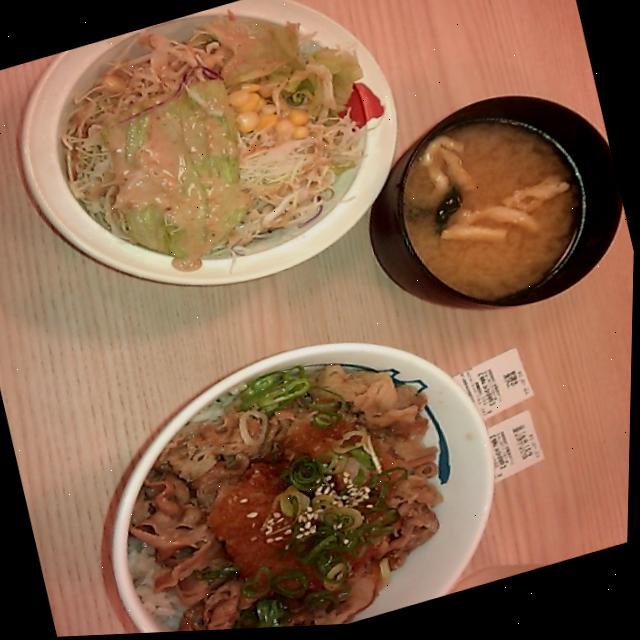汤锅炖物: (341, 65, 638, 360)
蔬菜料理: (0, 0, 431, 334)
